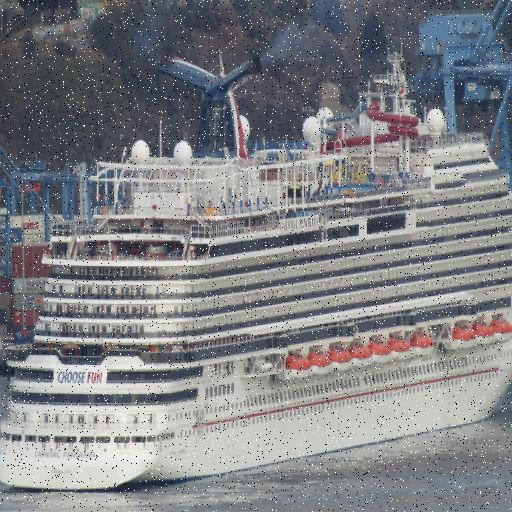cruises: (1, 50, 512, 503)
